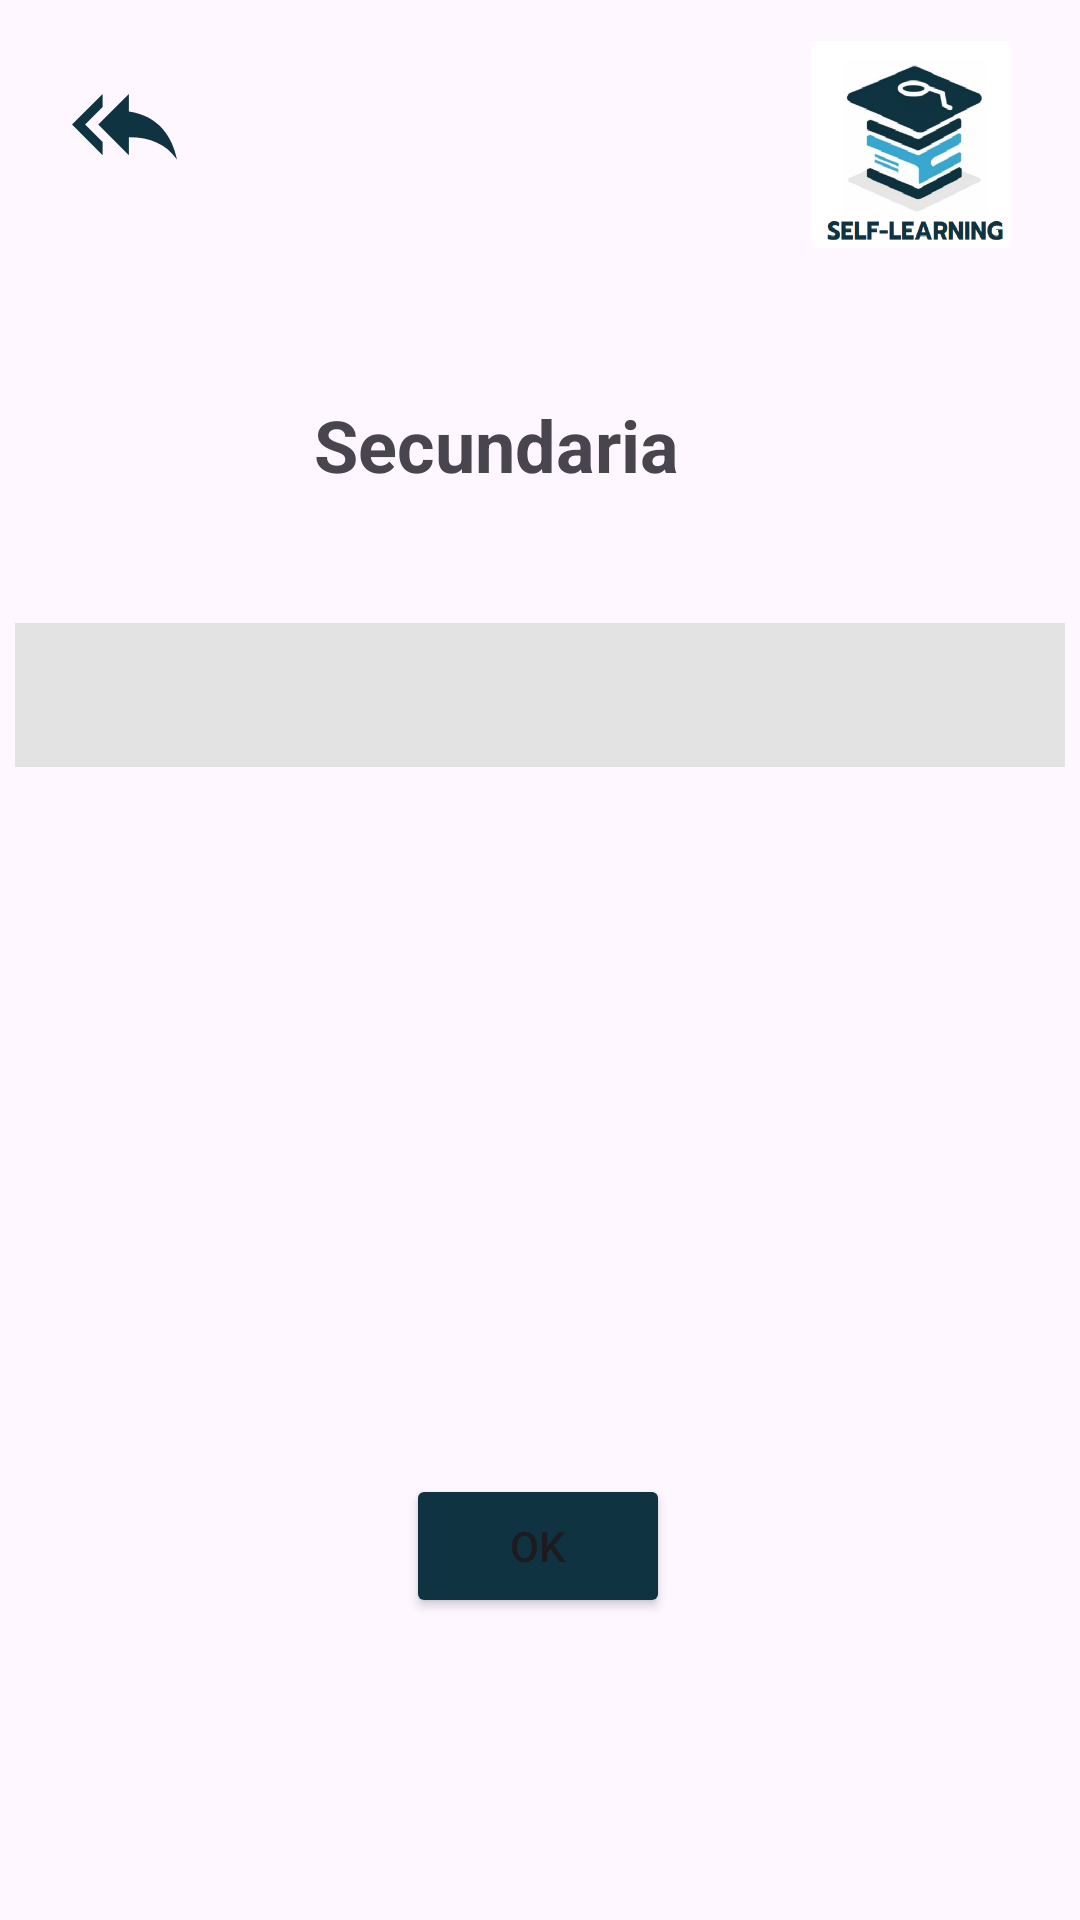

Where to tap for icons on this 1080*1920 app screen, as [x,y]:
backimage: [124,126]
